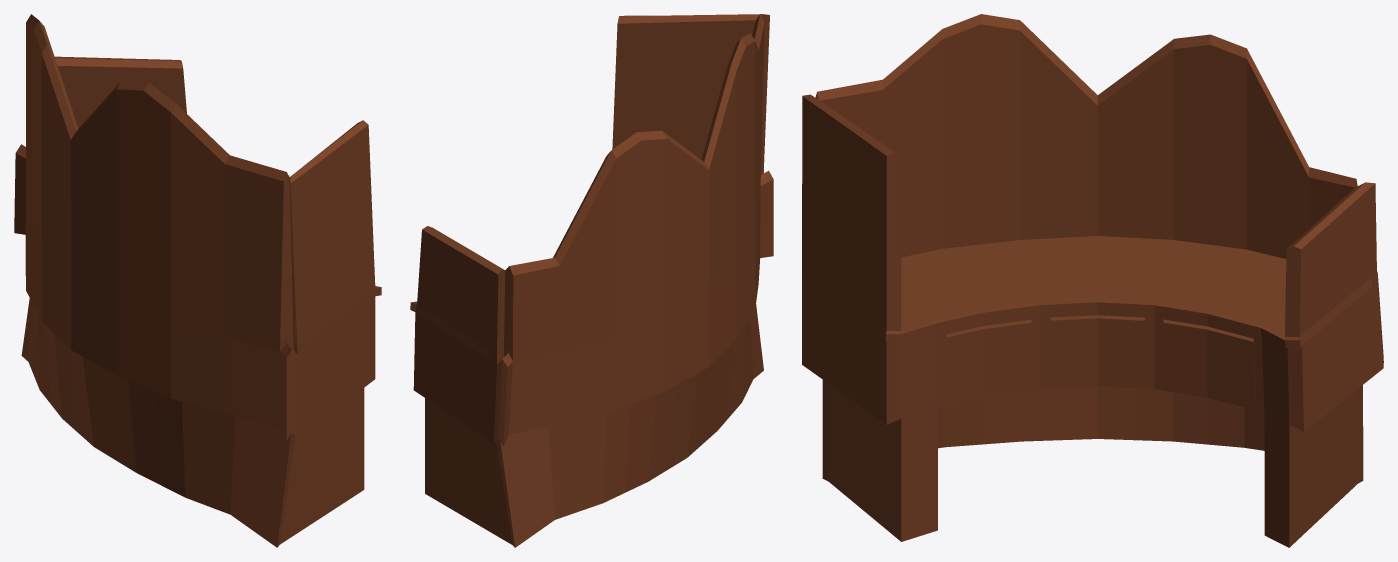
Rendered from escrivaninha.fbx.
3 renders of one model, left to right at view 1: azimuth 30°, elevation 25°; view 2: azimuth 150°, elevation 25°; view 3: azimuth 270°, elevation 25°, orthographic. The views are drawn at different scales.
Visible parts, largest first — view 1: Cube; view 2: Cube; view 3: Cube.
Part boxes in pixels (x1=…): Cube: x1=14, y1=14, x2=381, y2=547; Cube: x1=410, y1=14, x2=773, y2=547; Cube: x1=802, y1=14, x2=1383, y2=547.
Bounding box in the file's own units: 178 × 325 × 391.
